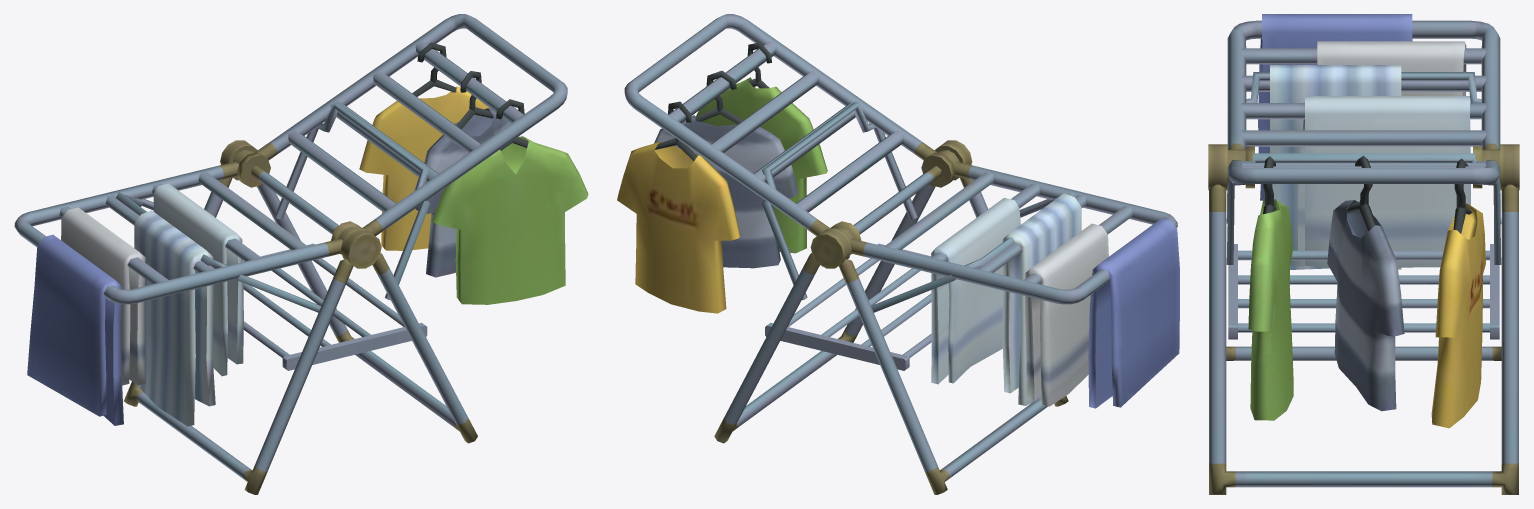
3 views of the same model, side by side, from view 1: azimuth 30°, elevation 25°; view 2: azimuth 150°, elevation 25°; view 3: azimuth 270°, elevation 25° (orthographic). The views are drawn at different scales.
Bounding box in the file's own units: 18.76 × 11.69 × 8.44.
Materials: 1 (1 with a texture image).
